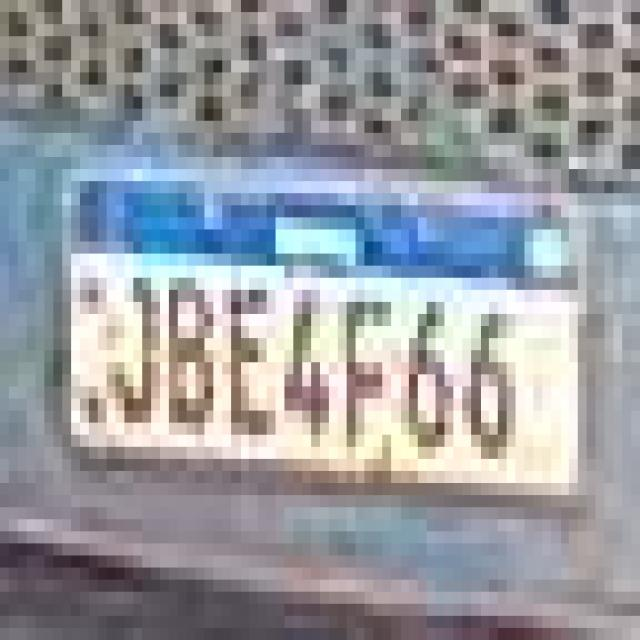4: (278, 293, 334, 442)
6: (463, 294, 529, 464), (398, 290, 460, 457)
B: (162, 266, 219, 434)
E: (221, 274, 281, 440)
F: (339, 289, 395, 451)
J: (102, 266, 163, 429)
